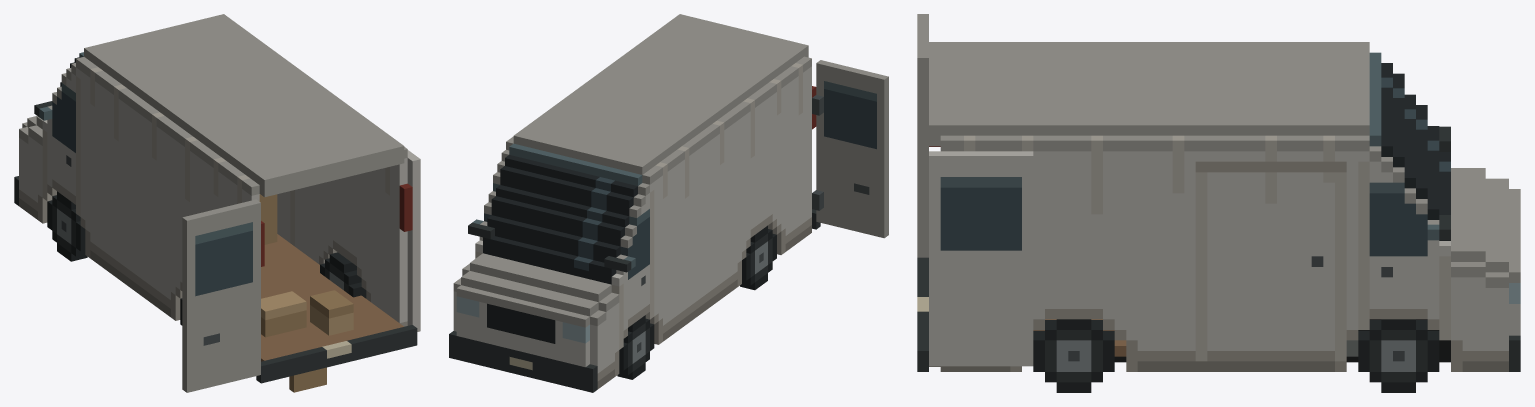
The model's file is Claude_delivery_van.glb.
3 renders of one model, left to right at view 1: azimuth 30°, elevation 25°; view 2: azimuth 150°, elevation 25°; view 3: azimuth 270°, elevation 25°, orthographic. The views are drawn at different scales.
Parts seen in each view (by area): view 1: Claude_delivery_van; view 2: Claude_delivery_van; view 3: Claude_delivery_van.
Boxes of the visible parts, <box> form: Claude_delivery_van: <box>14,14,420,392</box>; Claude_delivery_van: <box>449,14,888,392</box>; Claude_delivery_van: <box>917,14,1520,392</box>.
Bounding box in the file's own units: 2.9 × 2.5 × 5.2.
